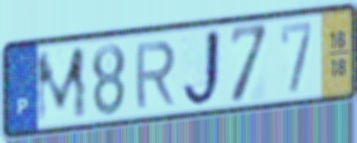7: (229, 21, 270, 107), (278, 18, 315, 97)
8: (88, 39, 128, 120)
J: (180, 26, 225, 111)
M: (34, 43, 90, 127)
R: (133, 38, 178, 112)
